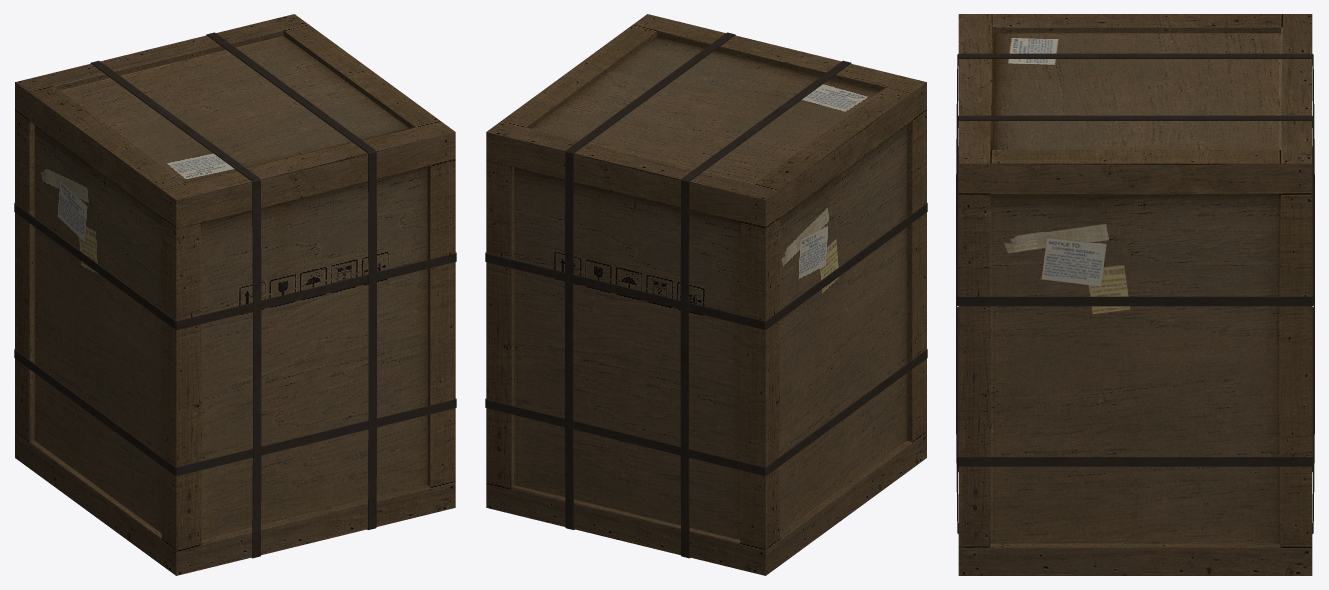
Rendered from wooden_crate_hx_1_1.glb.
3 renders of one model, left to right at view 1: azimuth 30°, elevation 25°; view 2: azimuth 150°, elevation 25°; view 3: azimuth 270°, elevation 25°, orthographic. The views are drawn at different scales.
Visible parts, largest first — view 1: wooden_crate_hx_1_1; view 2: wooden_crate_hx_1_1; view 3: wooden_crate_hx_1_1.
Part boxes in pixels (<box>): wooden_crate_hx_1_1: <box>14,14,456,575</box>; wooden_crate_hx_1_1: <box>485,14,927,575</box>; wooden_crate_hx_1_1: <box>956,14,1314,575</box>.
Bounding box in the file's own units: 1.41 × 1.81 × 1.42.
2 materials, 2 textured.
